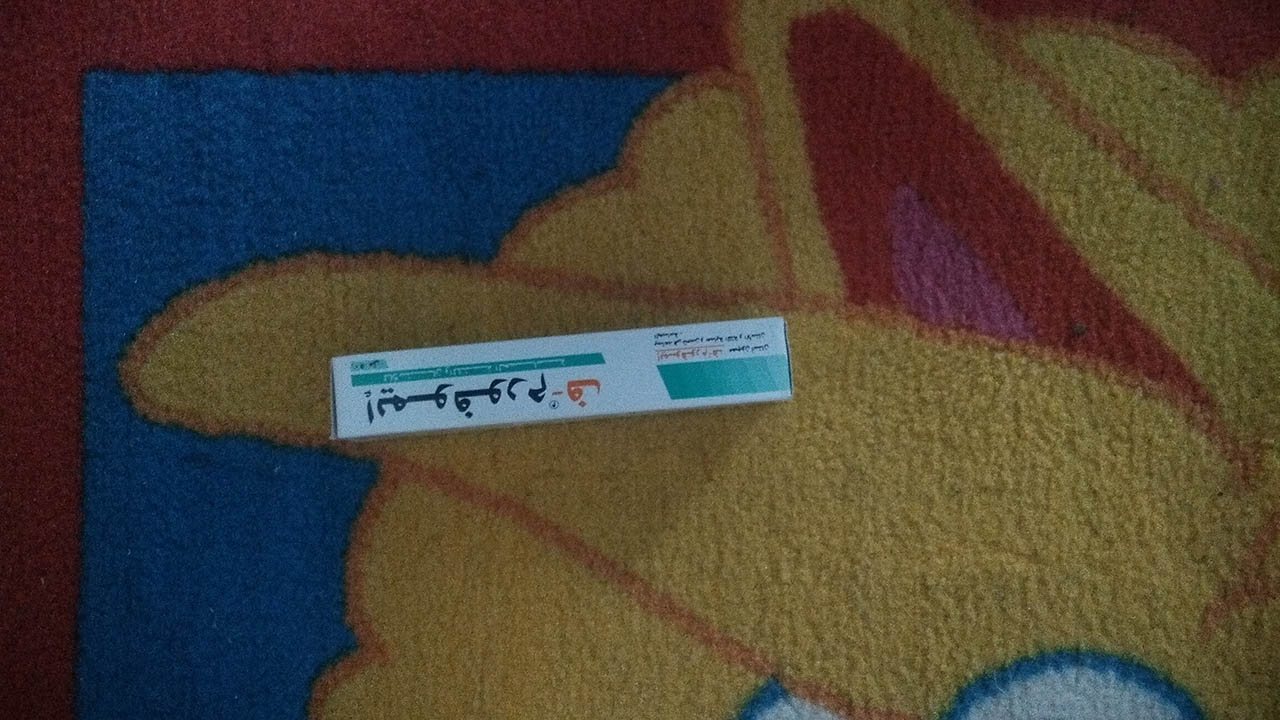Toothpaste-F 1.5$: (297, 283, 814, 493)
